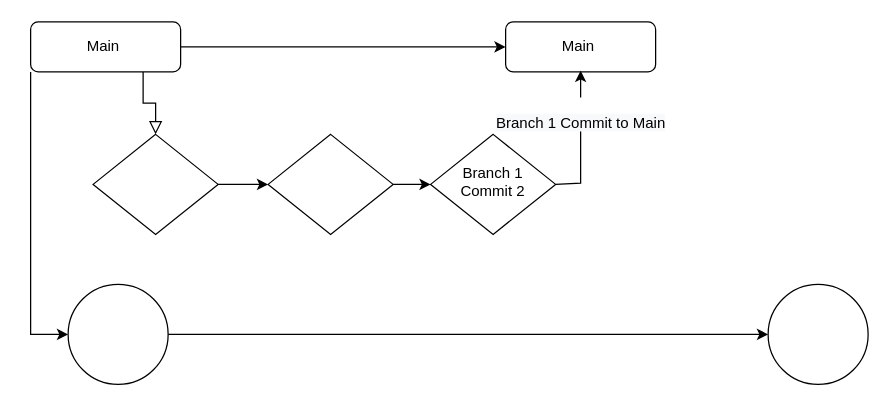
The diagram is 890 pixels wide and 406 high, and some of its shapes have lost their labels. The shapes that lost their labels are listed below. From the top down, each one's centre as x and y in pixels, then its label:
At point (155, 183): "Branch 1".
At point (330, 183): "Branch 1 Commit 1".
